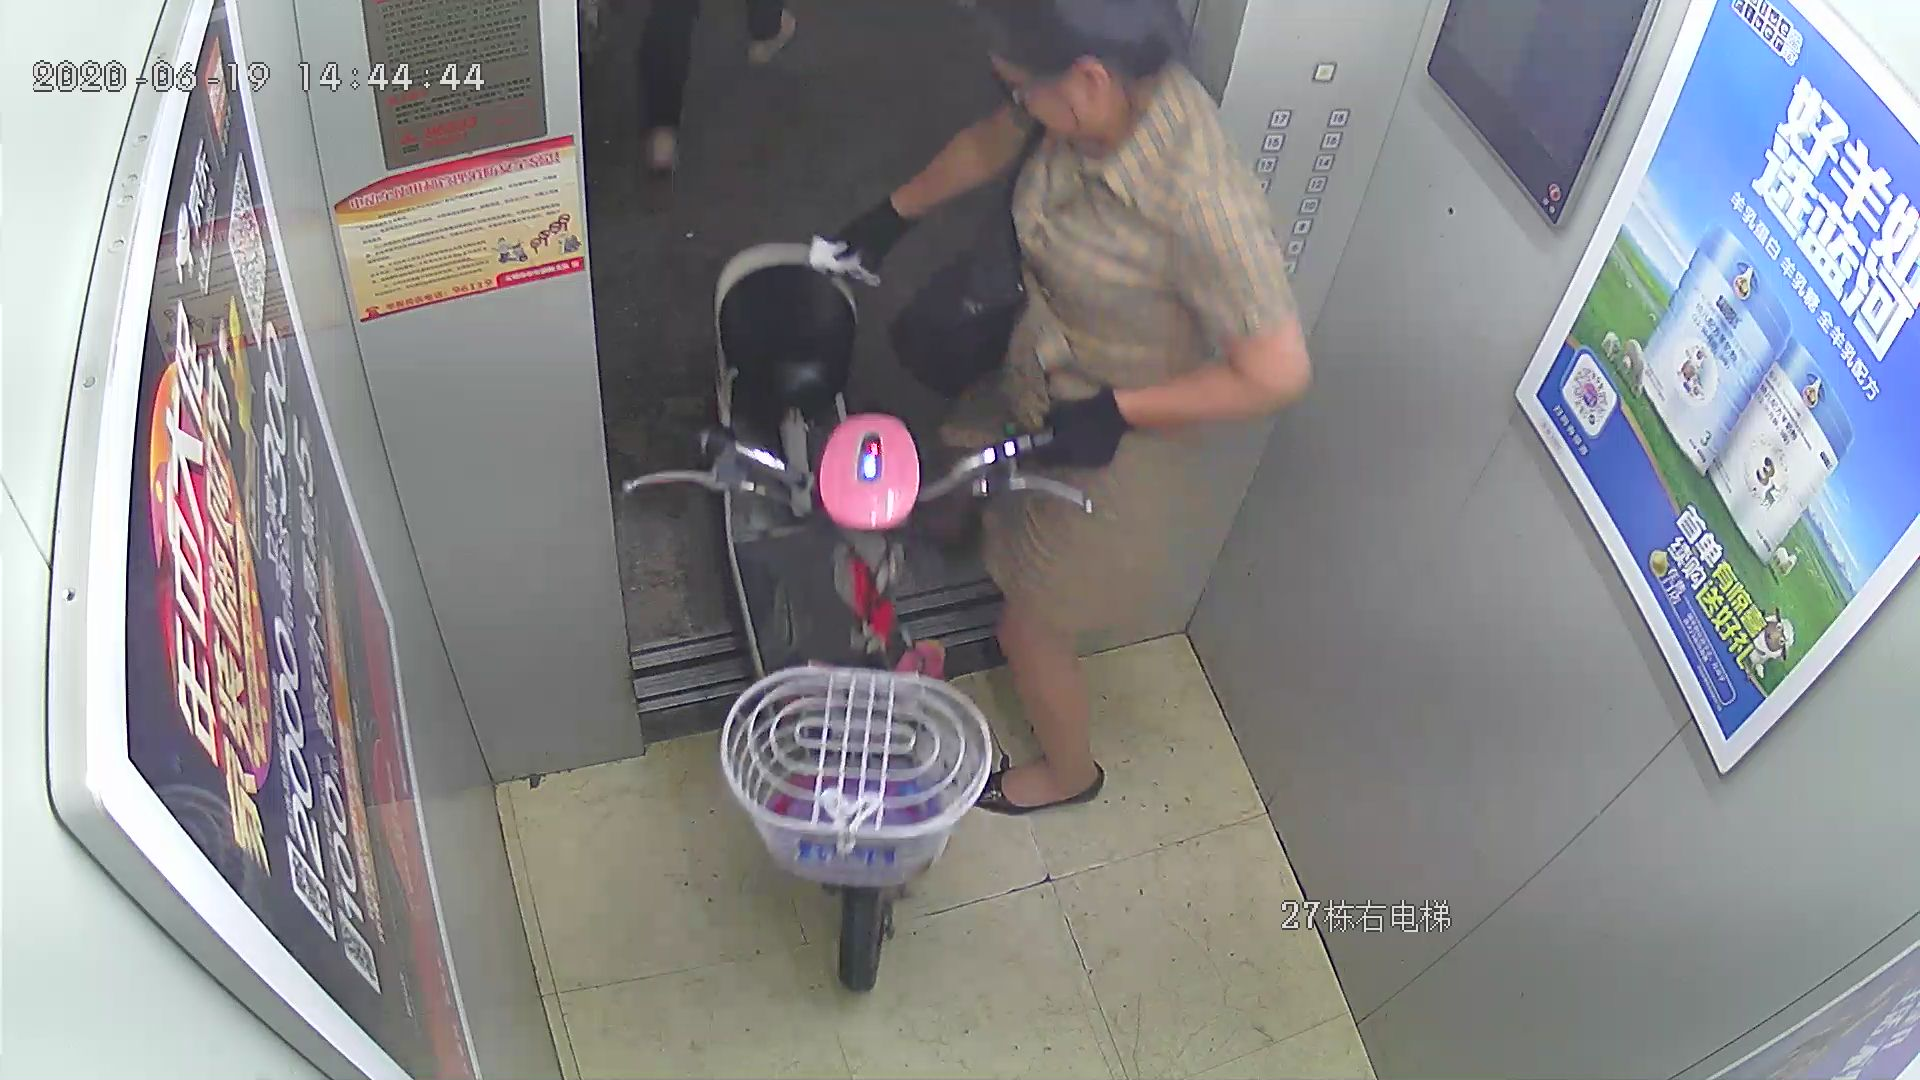Electric-bicycle: (622, 245, 1097, 1017)
